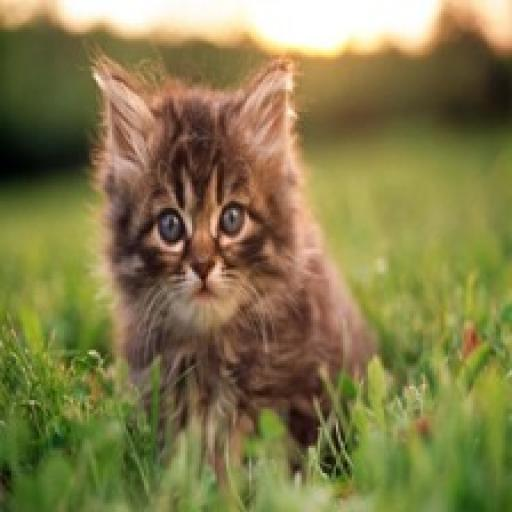cat: (76, 43, 379, 495)
